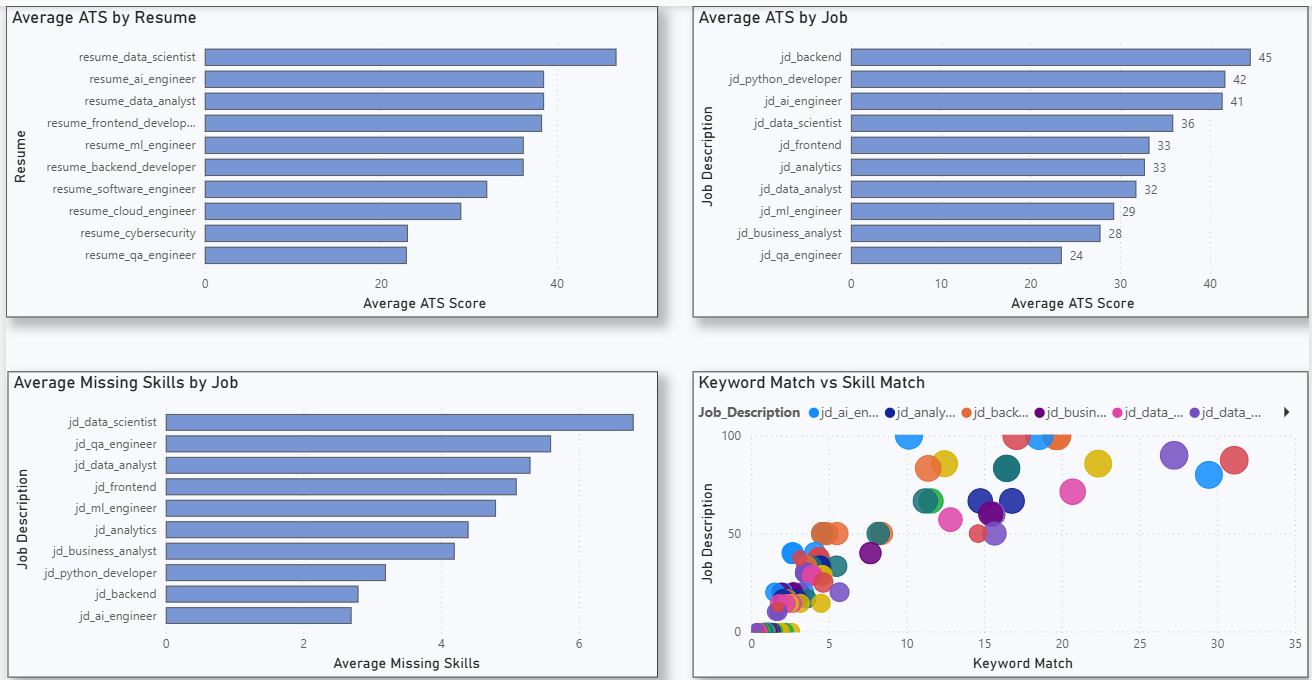

What the dashboard file says about the page in this screenshot:
{"tool":"powerbi","page":{"name":"Resume performance","canvas":[1280,720],"ordinal":1},"visuals":[{"type":"barChart","title":"Average ATS by Resume","fields":{"Category":["batch_resume_jd_scores.Resume_Name"],"Y":["batch_resume_jd_scores.Average ATS Score"]},"box":[0,0,640.6,306.1],"z":0},{"type":"barChart","title":"Average ATS by Job","fields":{"Category":["batch_resume_jd_scores.Job_Description"],"Y":["batch_resume_jd_scores.Average ATS Score"]},"box":[674.6,0,604.7,306.1],"z":1000},{"type":"clusteredBarChart","title":"Average Missing Skills by Job","fields":{"Category":["batch_resume_jd_scores.Job_Description"],"Y":["batch_resume_jd_scores.Average Missing Skills"]},"box":[1.9,359,638.7,300.5],"z":2000},{"type":"scatterChart","title":"Keyword Match vs Skill Match","fields":{"X":["Avg(batch_resume_jd_scores.Keyword_Score)"],"Y":["Avg(batch_resume_jd_scores.Skill_Score)"],"Series":["batch_resume_jd_scores.Job_Description"],"Size":["Avg(batch_resume_jd_scores.Overall_ATS_Score)"],"Category":["batch_resume_jd_scores.Resume_Name"]},"box":[674.6,359,604.7,300.5],"z":3000}]}

Visuals, with their boxes on the page's 1280x720 design canvas (x1, y1, x2, y2). These are canvas units, not pixel positions in the 1312x680 screenshot, which may show the page scaled, cropped or inside an application window:
"Average ATS by Resume" barChart: (left=0, top=0, right=641, bottom=306)
"Average ATS by Job" barChart: (left=675, top=0, right=1279, bottom=306)
"Average Missing Skills by Job" clusteredBarChart: (left=2, top=359, right=641, bottom=660)
"Keyword Match vs Skill Match" scatterChart: (left=675, top=359, right=1279, bottom=660)
